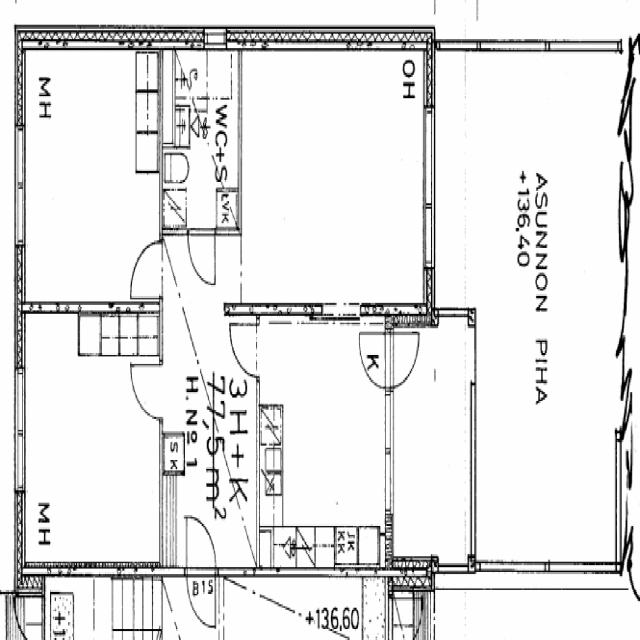door: (386, 332, 424, 388), (355, 332, 393, 388), (129, 242, 163, 298), (186, 513, 215, 577), (186, 568, 215, 631), (130, 364, 162, 419), (228, 325, 259, 377), (188, 228, 214, 284)
